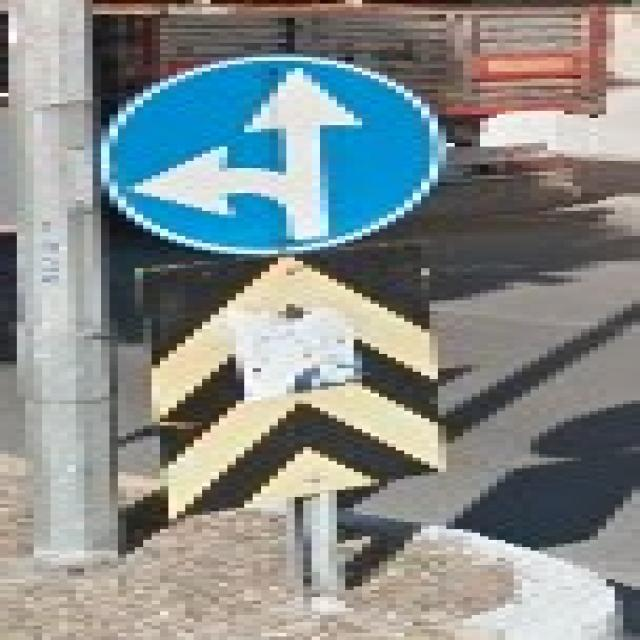Straight or Left: (98, 55, 443, 255)
